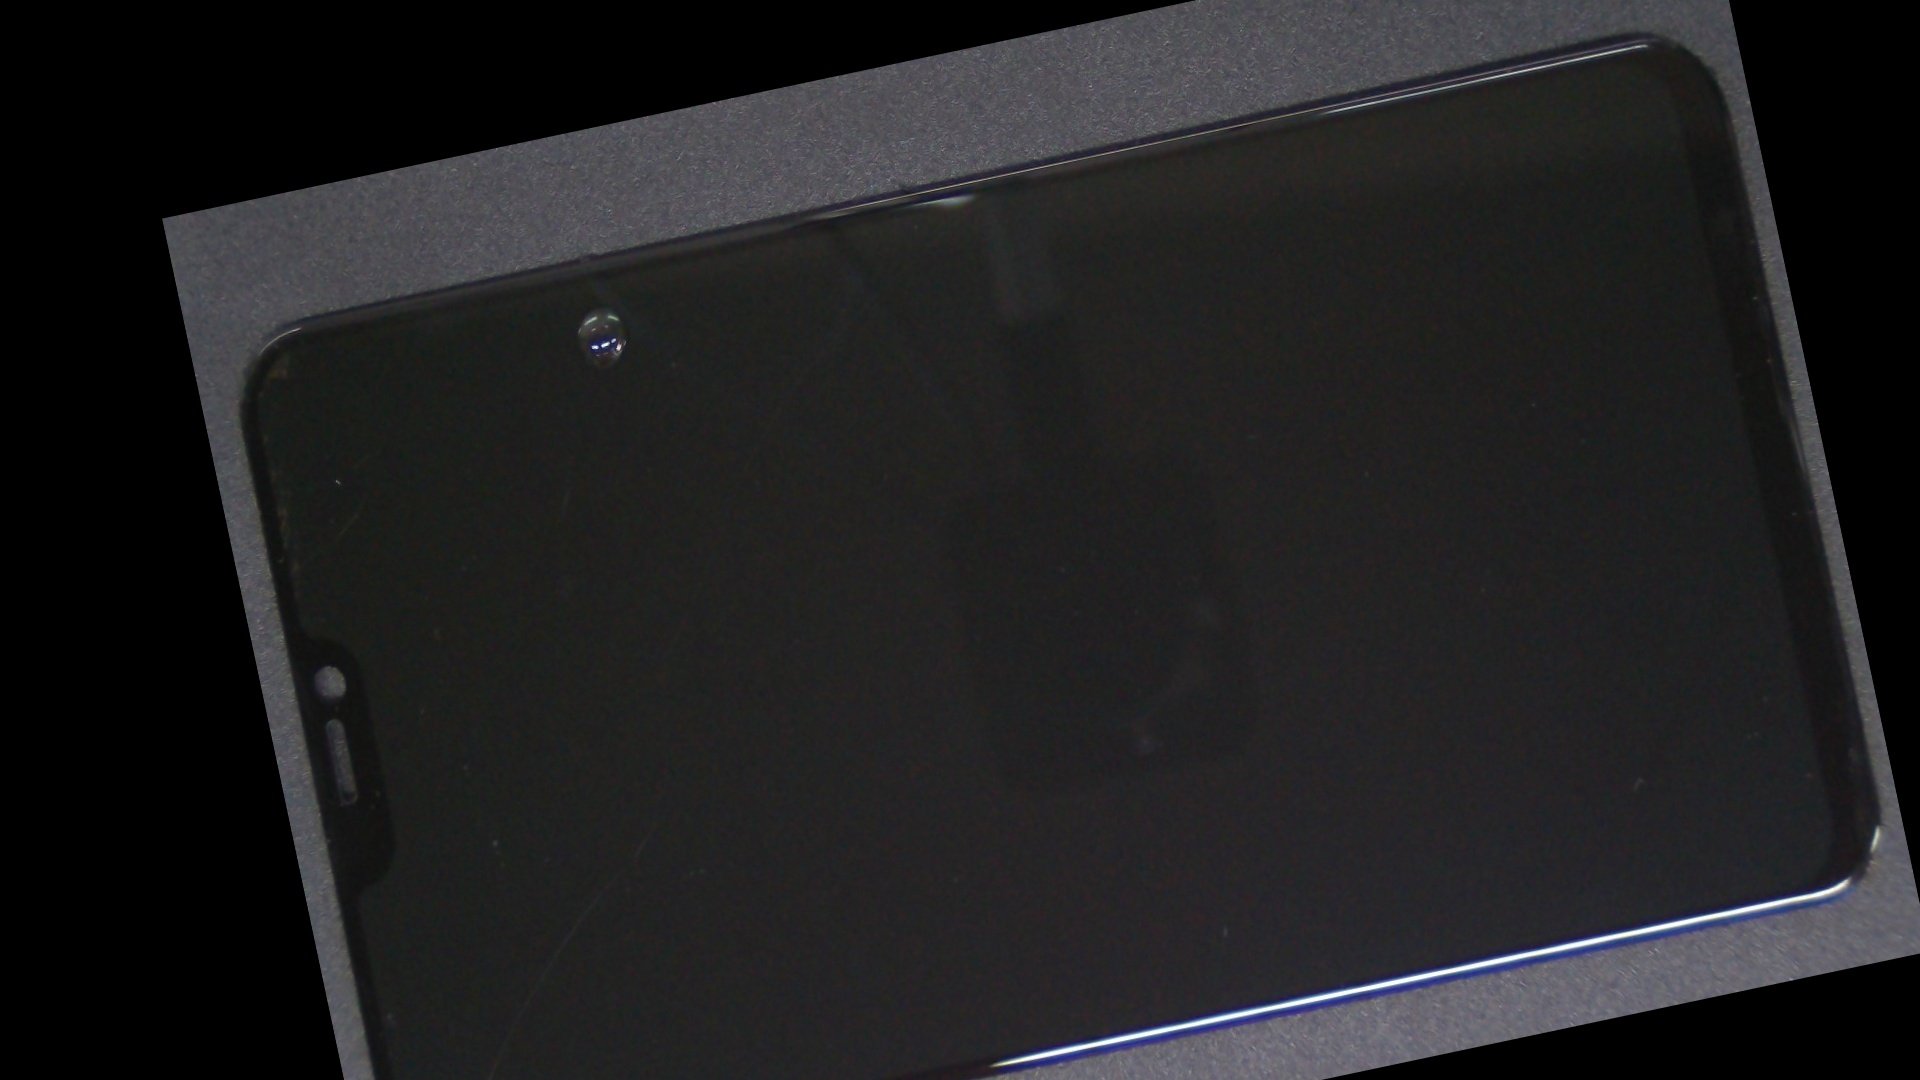oil: (378, 179, 810, 438)
